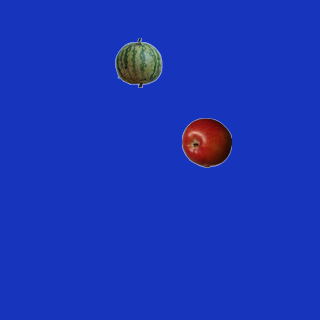Apple Braeburn: (181, 117, 231, 167)
Watermelon: (113, 37, 163, 87)
